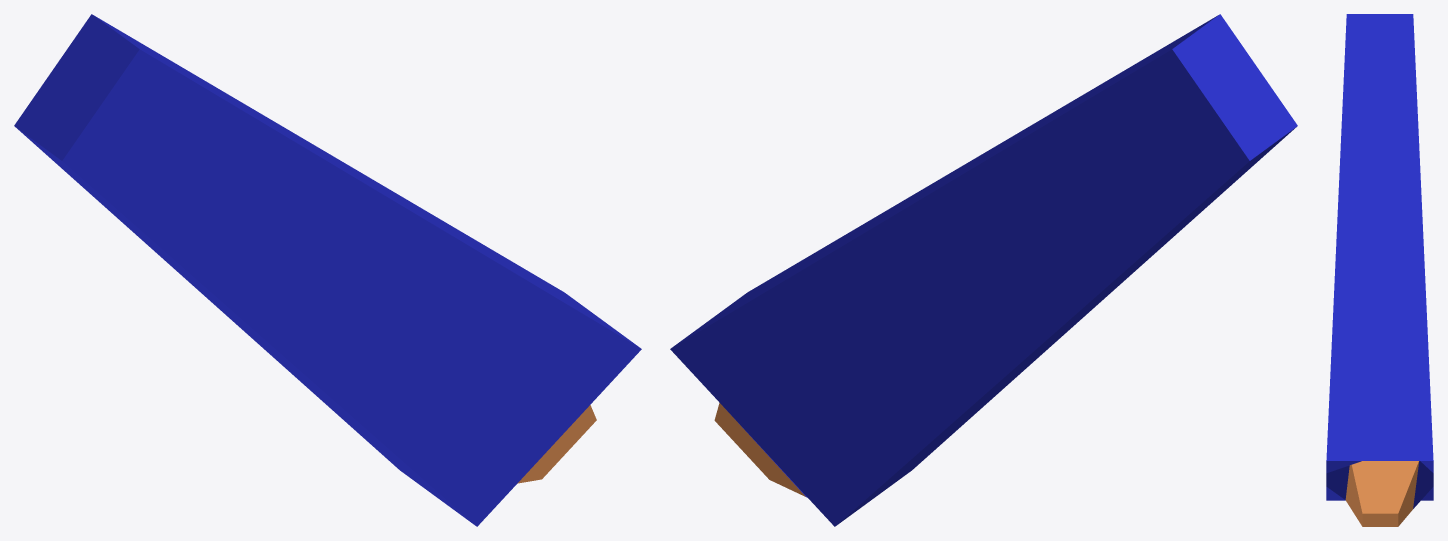
The model's file is arm_L.obj.
The picture shows the model from 3 angles, left to right: view 1: azimuth 30°, elevation 25°; view 2: azimuth 150°, elevation 25°; view 3: azimuth 270°, elevation 25°; orthographic projection. The views are drawn at different scales.
Parts seen in each view (by area): view 1: arm_L; view 2: arm_L; view 3: arm_L.
Boxes of the visible parts, <box> form: arm_L: <box>14,14,641,526</box>; arm_L: <box>670,14,1297,526</box>; arm_L: <box>1326,14,1433,526</box>.
Size of the model in its own units: 0.6274 by 0.579 by 0.1488.
